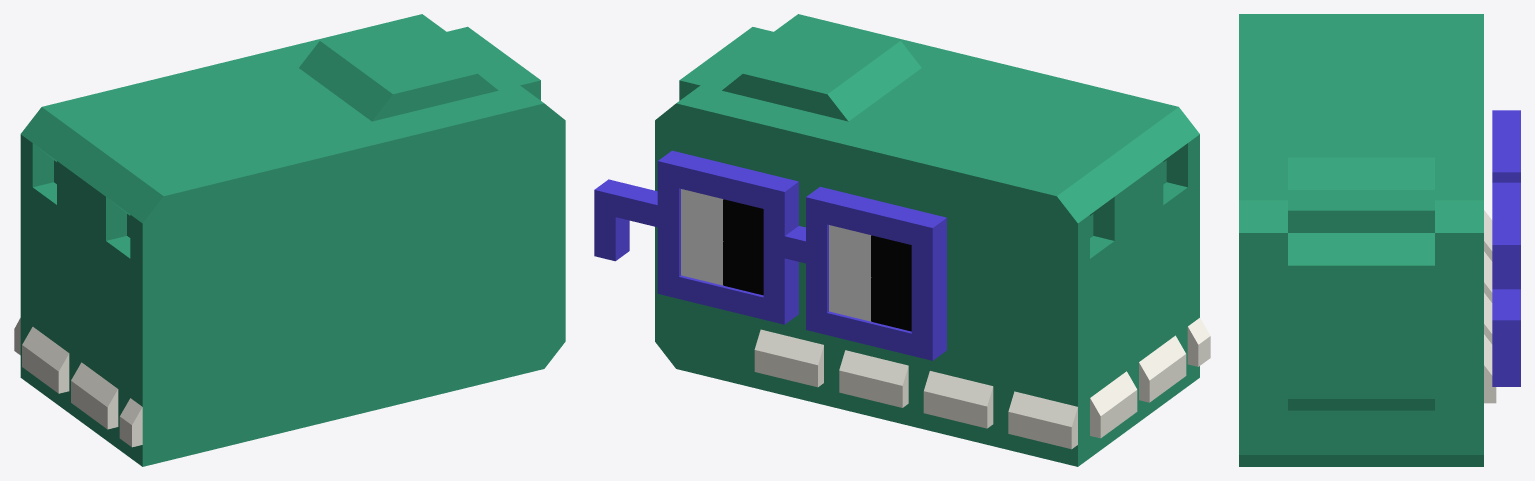
File: dino.gltf
3 views of the same model, side by side, from view 1: azimuth 30°, elevation 25°; view 2: azimuth 150°, elevation 25°; view 3: azimuth 270°, elevation 25° (orthographic).
Visible parts, largest first — view 1: base-Local, a-10$$(2)-Local, tooth-side-Local, toothsidetop-Local, a-6-Local, a-10$$(3)-Local, a-6$$(5)-Local; view 2: base-Local, glasses-Local, layer-2-Local, tooths-Local, top-Local, a-10$$(2)-Local, a-10$$(3)-Local, tooth-side-Local, toothsidetop-Local, a-6-Local, a-6$$(5)-Local; view 3: base-Local, glasses-Local, layer-2-Local, a-6$$(1)-Local, a-6$$(2)-Local, a-10$$(4)-Local, a-10$$(5)-Local, a-10-Local, a-10$$(1)-Local, a-6$$(6)-Local, a-6$$(7)-Local, top-Local (+3 smaller).
Boxes of the visible parts, x1,y1,x2,y2 form: base-Local: (20,14,565,466); a-10$$(2)-Local: (27,107,178,227); tooth-side-Local: (22,345,142,447); toothsidetop-Local: (22,327,142,429); a-6-Local: (305,41,407,118); a-10$$(3)-Local: (21,115,170,234); a-6$$(5)-Local: (299,60,383,121); base-Local: (655,14,1199,466); glasses-Local: (594,152,944,360); layer-2-Local: (607,150,946,358); tooths-Local: (754,350,1077,449); top-Local: (754,329,1077,429); a-10$$(2)-Local: (1042,107,1185,227); a-10$$(3)-Local: (1049,115,1199,234); tooth-side-Local: (1090,336,1210,438); toothsidetop-Local: (1090,318,1210,421); a-6-Local: (813,41,915,118); a-6$$(5)-Local: (836,60,921,121); base-Local: (1239,14,1483,454); glasses-Local: (1496,110,1520,386); layer-2-Local: (1492,110,1516,386); a-6$$(1)-Local: (1288,157,1434,180); a-6$$(2)-Local: (1288,242,1434,265); a-10$$(4)-Local: (1239,210,1483,232); a-10$$(5)-Local: (1239,200,1483,223); a-10-Local: (1239,458,1483,466); a-10$$(1)-Local: (1239,455,1483,463); a-6$$(6)-Local: (1288,180,1434,189); a-6$$(7)-Local: (1288,233,1434,242); top-Local: (1484,210,1492,380).
Bounding box in the file's own units: 22.5 × 13 × 11.5.
23 materials, 23 textured.
